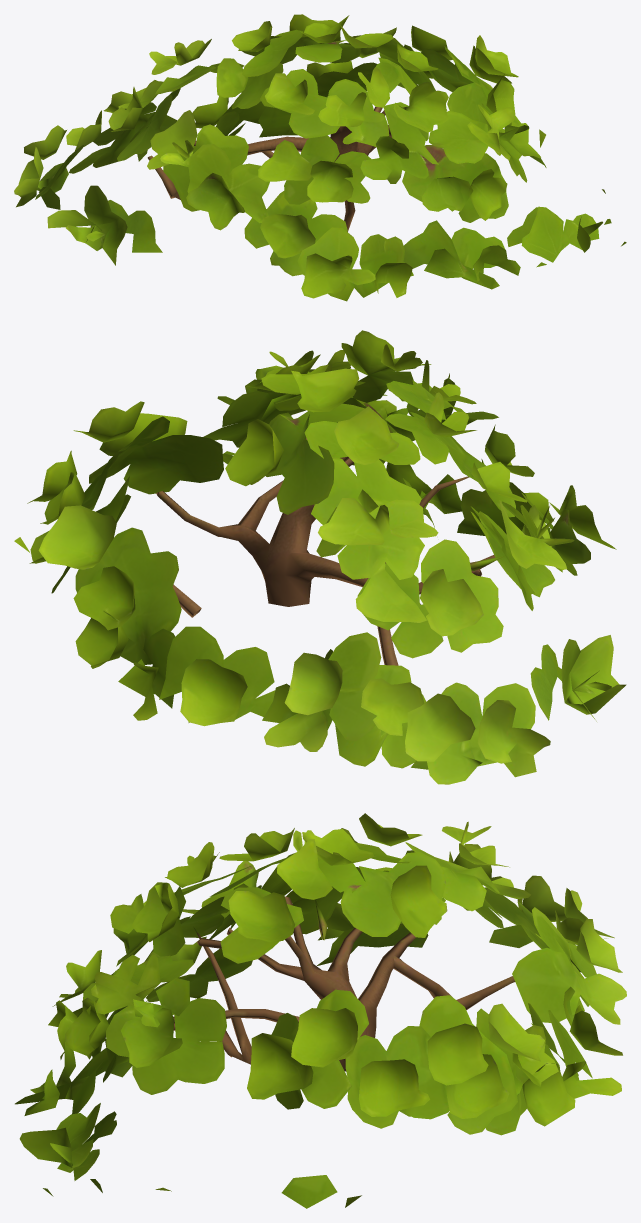
File: CanopyShrub_A.fbx
The picture shows the model from 3 angles, top to bottom: view 1: azimuth 30°, elevation 25°; view 2: azimuth 150°, elevation 25°; view 3: azimuth 270°, elevation 25°; orthographic projection. The views are drawn at different scales.
Visible parts, largest first — view 1: CanopyShrub_A; view 2: CanopyShrub_A; view 3: CanopyShrub_A.
Boxes of the visible parts, <box> form: CanopyShrub_A: <box>14,14,626,301</box>; CanopyShrub_A: <box>14,330,626,784</box>; CanopyShrub_A: <box>15,813,626,1208</box>.
Bounding box in the file's own units: 0.8225 × 0.3196 × 0.7268.
